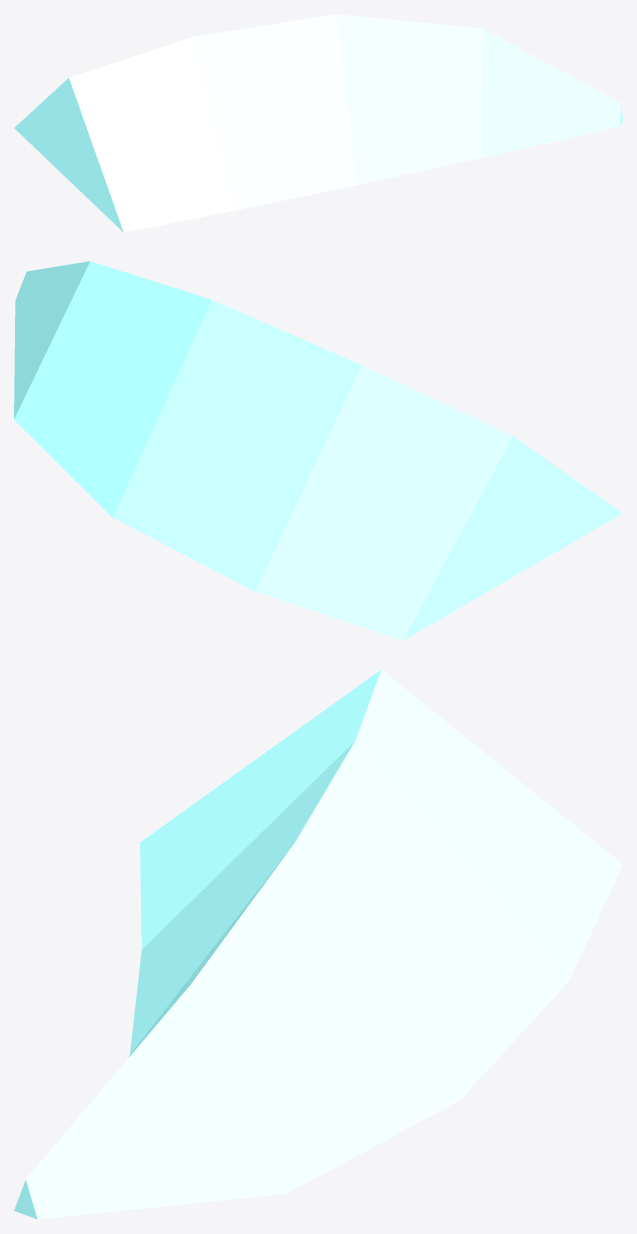
File: nova_claw_shard.glb
3 views of the same model, one above another, from view 1: azimuth 30°, elevation 25°; view 2: azimuth 150°, elevation 25°; view 3: azimuth 270°, elevation 25° (orthographic). The views are drawn at different scales.
Parts seen in each view (by area): view 1: nova_claw_shard; view 2: nova_claw_shard; view 3: nova_claw_shard.
Part boxes in pixels (left/top/right/bottom): nova_claw_shard: left=14, top=14, right=622, bottom=232; nova_claw_shard: left=14, top=261, right=622, bottom=640; nova_claw_shard: left=14, top=669, right=622, bottom=1219.
Bounding box in the file's own units: 1.12 × 0.299 × 0.702.
